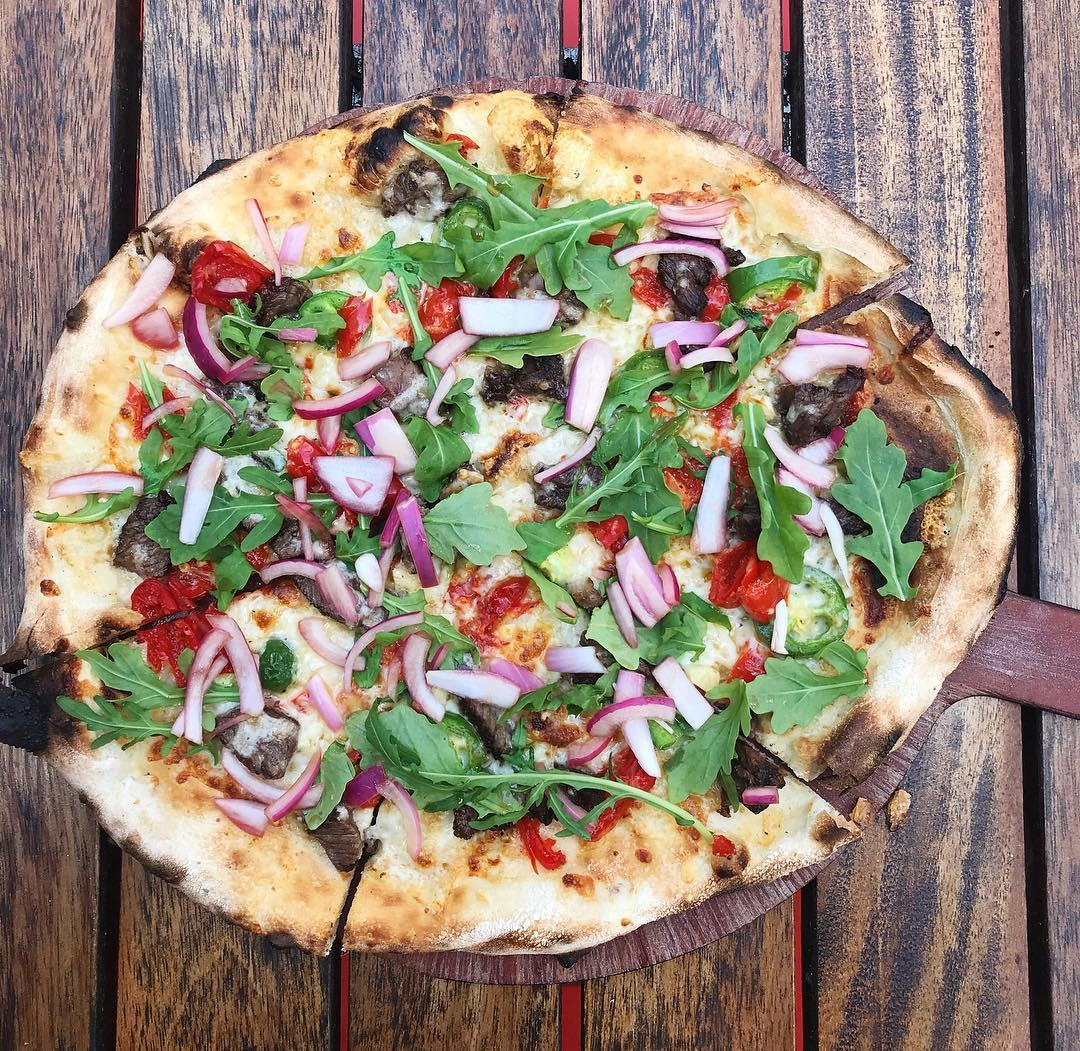Arugula: (395, 139, 629, 294), (365, 709, 548, 827), (841, 419, 933, 592), (89, 639, 241, 743), (153, 451, 273, 568), (727, 623, 860, 718), (593, 415, 697, 535), (229, 299, 356, 394), (607, 347, 745, 414), (421, 479, 525, 564), (133, 387, 272, 446), (659, 713, 736, 798)
Onion: (177, 603, 266, 746), (559, 691, 665, 784), (423, 295, 558, 368), (107, 251, 182, 354), (357, 771, 432, 866), (263, 559, 358, 631), (603, 533, 665, 642), (609, 673, 669, 784), (307, 439, 390, 519), (773, 439, 836, 536), (777, 329, 881, 382), (563, 335, 620, 431), (354, 407, 425, 480), (245, 197, 312, 274), (761, 423, 834, 492), (429, 655, 524, 708), (693, 459, 740, 562), (393, 495, 445, 587), (399, 627, 448, 722), (175, 445, 224, 539), (609, 241, 730, 279), (297, 611, 370, 670), (47, 463, 154, 502), (183, 296, 233, 378), (655, 661, 716, 728), (267, 753, 324, 820), (645, 323, 742, 362), (529, 439, 602, 487), (417, 359, 470, 423), (289, 387, 381, 420), (659, 207, 740, 242), (301, 675, 350, 731), (215, 791, 273, 838), (541, 643, 604, 680), (333, 343, 394, 380)
Pizza: (15, 85, 1022, 961)
Tomatoes: (125, 575, 213, 662), (467, 571, 532, 650), (585, 753, 649, 830), (705, 551, 780, 615), (185, 243, 261, 304), (277, 431, 328, 488), (411, 275, 457, 338), (621, 255, 669, 304)
